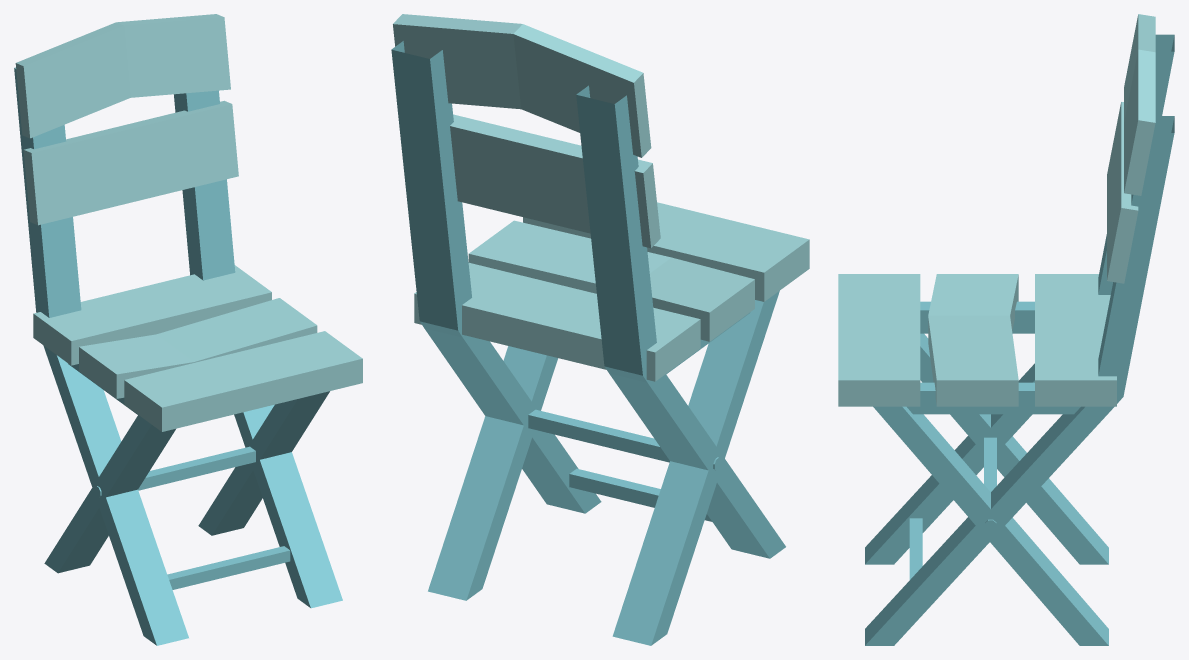
Rendered from CafeChair.fbx.
3 views of the same model, side by side, from view 1: azimuth 30°, elevation 25°; view 2: azimuth 150°, elevation 25°; view 3: azimuth 270°, elevation 25° (orthographic). The views are drawn at different scales.
Visible parts, largest first — view 1: Chair; view 2: Chair; view 3: Chair.
Part boxes in pixels (box(x1,y1,x2,y2)): Chair: box(14, 14, 362, 645); Chair: box(391, 14, 809, 645); Chair: box(838, 14, 1174, 645).
Size of the model in its own units: 39.64 by 95.31 by 53.03.
